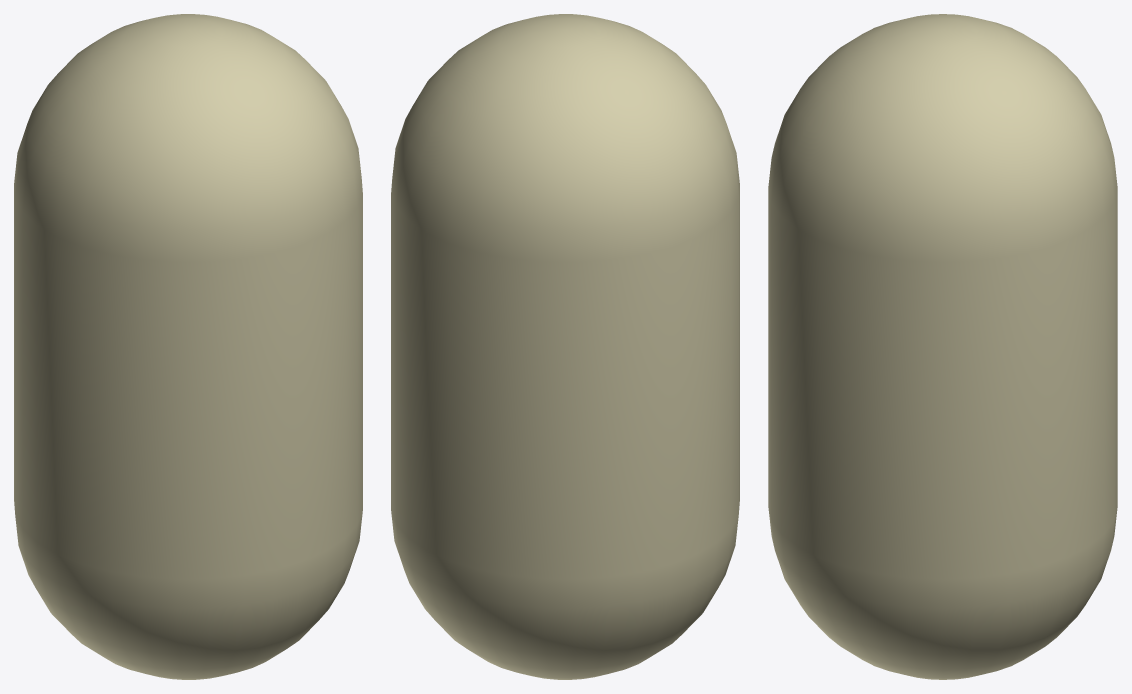
The model's file is Shape_NarrowCapsuleMesh.FBX.
3 renders of one model, left to right at view 1: azimuth 30°, elevation 25°; view 2: azimuth 150°, elevation 25°; view 3: azimuth 270°, elevation 25°, orthographic.
Visible parts, largest first — view 1: Shape_NarrowCapsule; view 2: Shape_NarrowCapsule; view 3: Shape_NarrowCapsule.
Boxes of the visible parts, x1,y1,x2,y2 form: Shape_NarrowCapsule: (14,14,362,679); Shape_NarrowCapsule: (391,14,739,679); Shape_NarrowCapsule: (768,14,1117,679).
Size of what is drawn, in the model's own units: 50 by 50 by 100.
